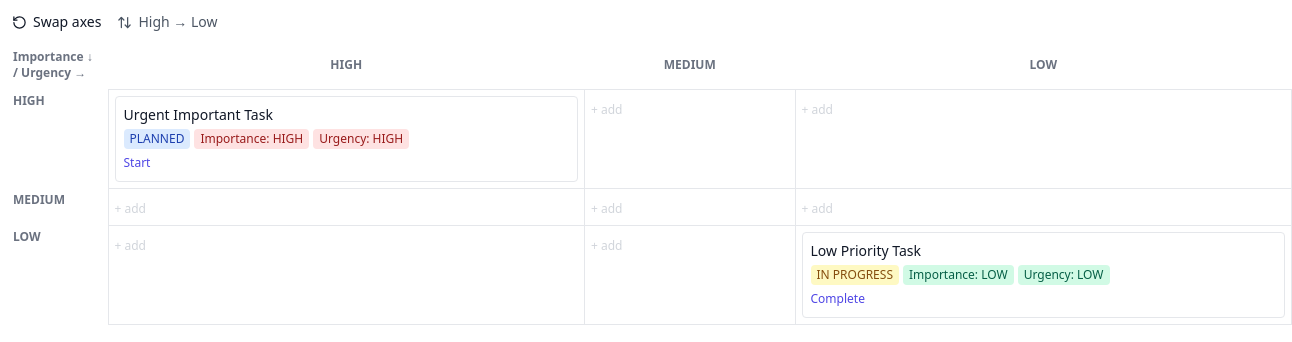
Scenario: TaskMatrix › toggles sort order label when toggle-sort is clicked
The width and height of the screenshot is (1292, 342).
Click the button with test id "toggle-sort".
click(167, 22)  # box [117, 12, 218, 32]
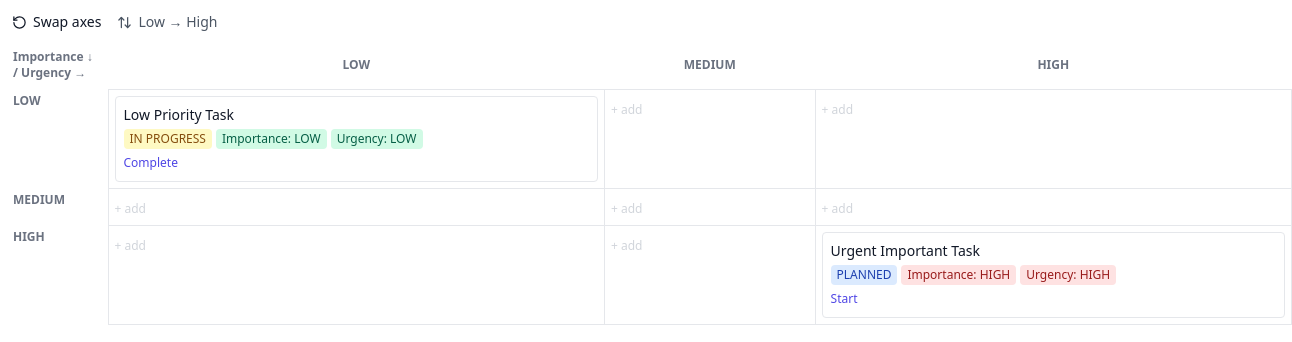
Now the button with test id "toggle-sort" reads "Low → High", box [117, 12, 218, 32]
